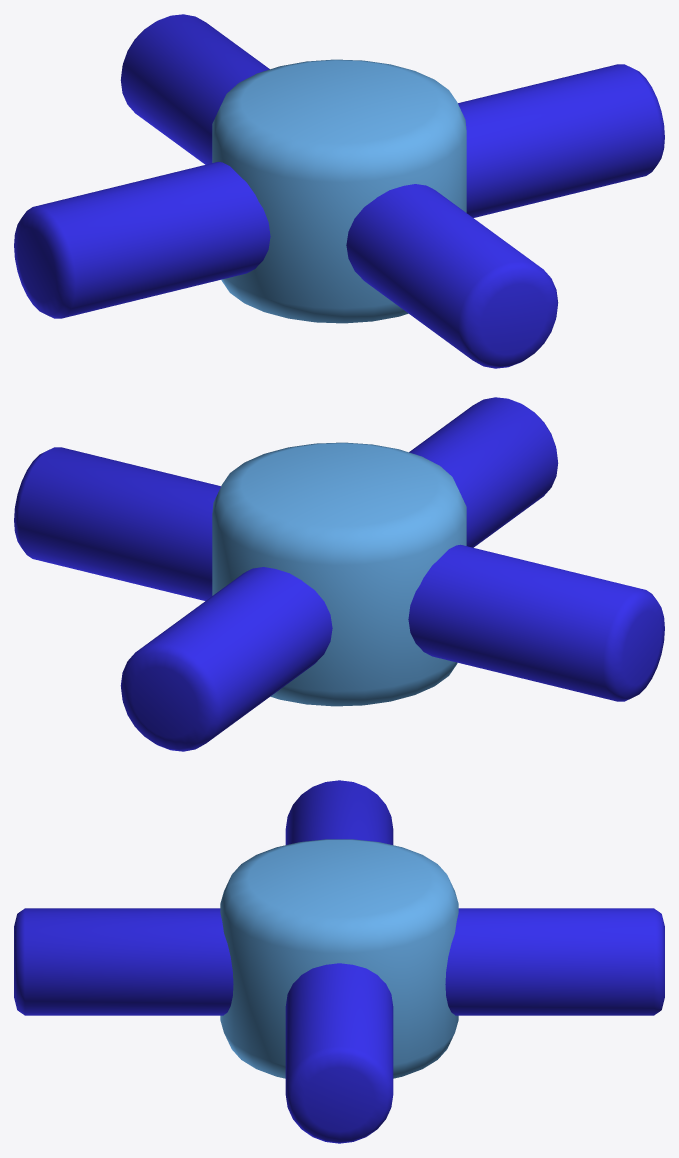
The model's file is Obstacle1-1.fbx.
3 views of the same model, one above another, from view 1: azimuth 30°, elevation 25°; view 2: azimuth 150°, elevation 25°; view 3: azimuth 270°, elevation 25° (orthographic). The views are drawn at different scales.
Visible parts, largest first — view 1: Engel_Dortlu; view 2: Engel_Dortlu; view 3: Engel_Dortlu.
Boxes of the visible parts, bbox=[...] form: Engel_Dortlu: bbox=[14, 14, 664, 368]; Engel_Dortlu: bbox=[14, 397, 664, 751]; Engel_Dortlu: bbox=[14, 780, 664, 1143].
Size of the model in its own units: 195 by 54.99 by 195.
